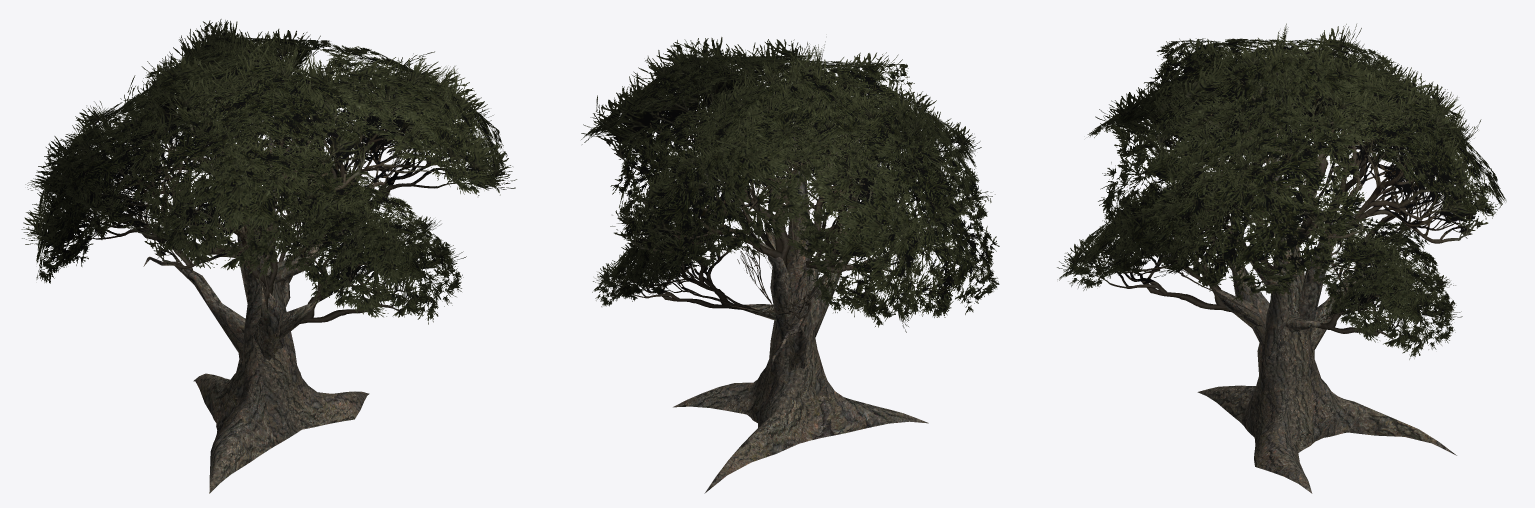
Rendered from Con_02_e_N.fbx.
3 renders of one model, left to right at view 1: azimuth 30°, elevation 25°; view 2: azimuth 150°, elevation 25°; view 3: azimuth 270°, elevation 25°, orthographic. The views are drawn at different scales.
Parts seen in each view (by area): view 1: Con_02_e, Con_02_Trunk_e; view 2: Con_02_e, Con_02_Trunk_e; view 3: Con_02_e, Con_02_Trunk_e.
Boxes of the visible parts, left/top/right/bottom form: Con_02_e: left=21, top=19, right=516, bottom=324; Con_02_Trunk_e: left=143, top=138, right=369, bottom=493; Con_02_e: left=581, top=37, right=999, bottom=332; Con_02_Trunk_e: left=673, top=133, right=928, bottom=493; Con_02_e: left=1057, top=23, right=1506, bottom=359; Con_02_Trunk_e: left=1197, top=127, right=1456, bottom=493.
Size of what is drawn, in the model's own units: 3083 by 2499 by 2571.
Materials: 2 (2 with a texture image).
